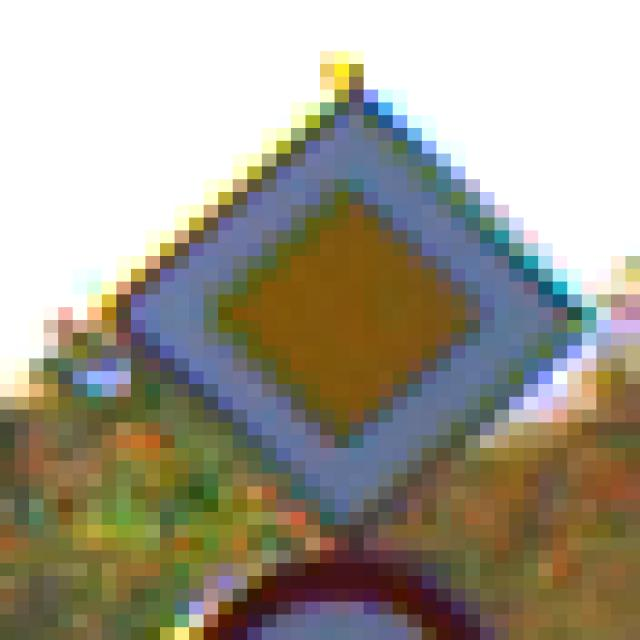Main Road: (89, 65, 569, 564)
